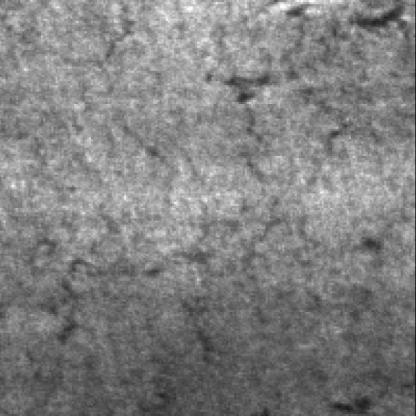crazing: (212, 0, 368, 185), (175, 200, 324, 356), (58, 202, 152, 376)
